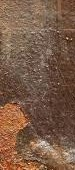Corrosion: (1, 102, 57, 170)
